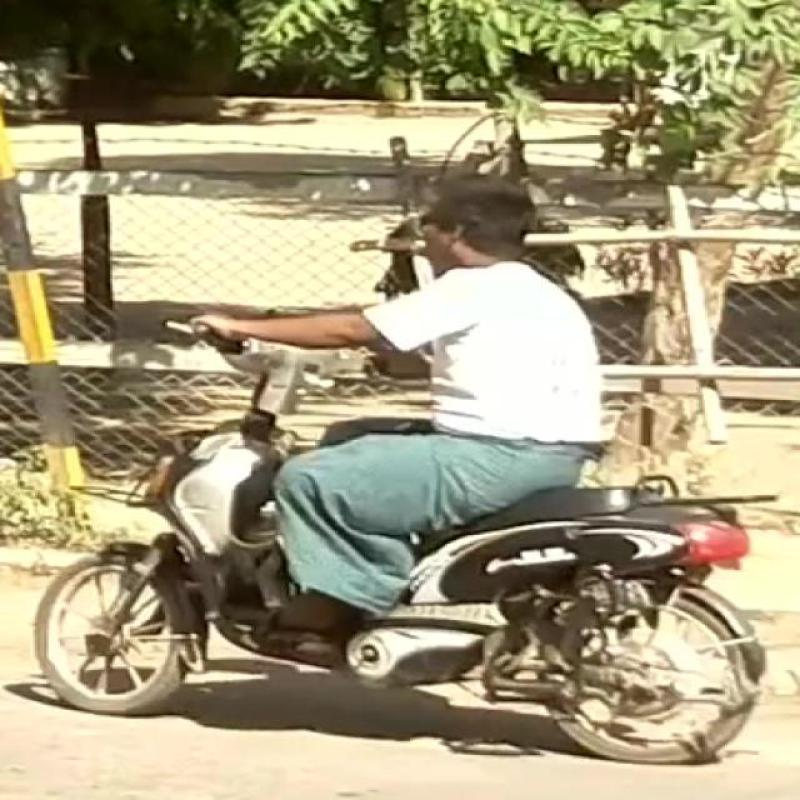nohelmet: (386, 144, 592, 288)
